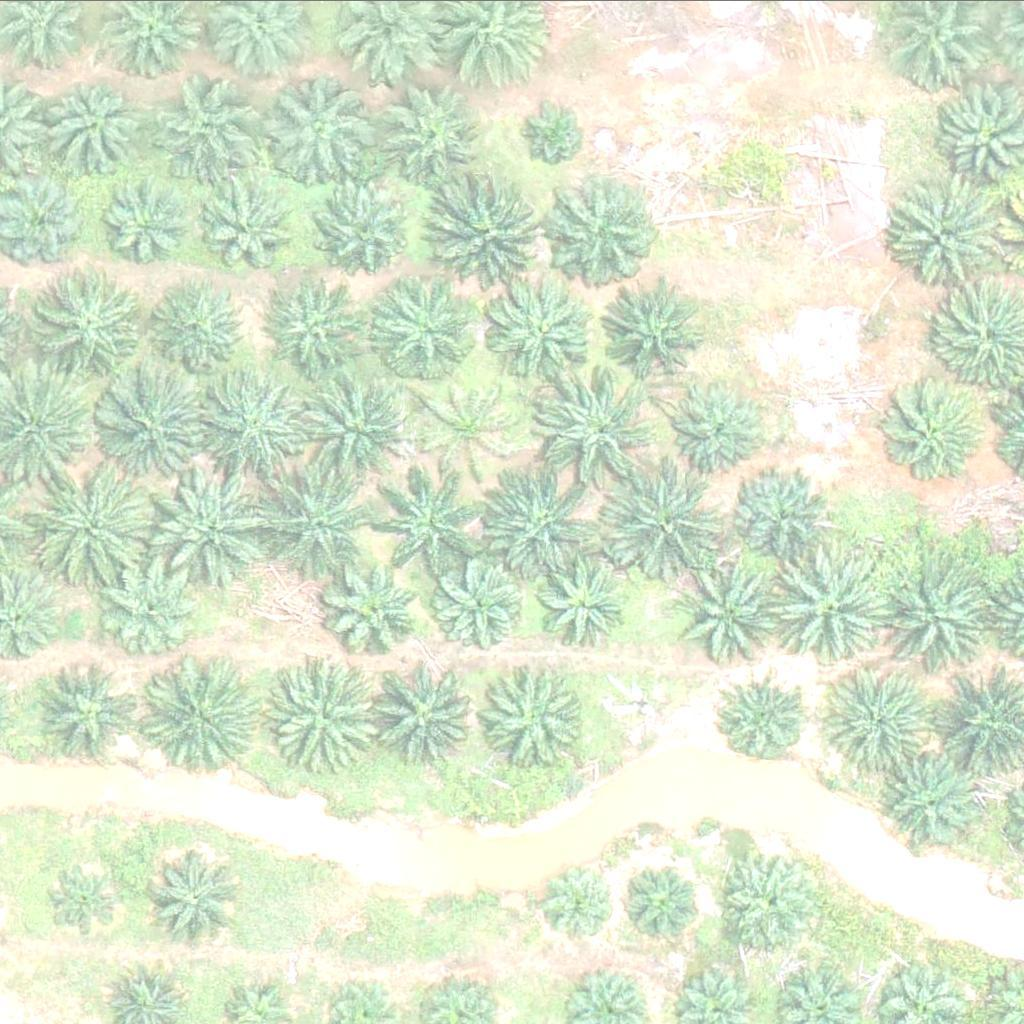Kelapa_Sawit: (609, 464, 723, 577), (886, 561, 1000, 674), (822, 663, 936, 776), (140, 657, 254, 770), (265, 76, 378, 189), (434, 177, 547, 290), (483, 463, 596, 576), (157, 473, 270, 586), (264, 661, 377, 774), (38, 465, 151, 578), (484, 270, 598, 382), (195, 369, 309, 481), (308, 368, 422, 480), (873, 375, 987, 487), (373, 655, 487, 767), (92, 361, 206, 473), (892, 179, 1005, 291), (148, 70, 261, 182), (550, 176, 663, 288), (539, 372, 652, 484), (370, 467, 483, 579), (255, 463, 368, 575), (663, 551, 776, 663), (777, 547, 890, 659), (43, 267, 156, 379), (384, 80, 485, 180), (316, 183, 417, 283), (412, 374, 513, 474), (730, 467, 831, 567), (430, 557, 531, 657), (526, 553, 627, 653), (482, 664, 583, 764), (146, 849, 247, 949), (715, 851, 816, 951), (37, 662, 138, 762), (883, 751, 984, 851), (603, 281, 703, 381), (274, 277, 374, 377), (375, 284, 475, 384), (676, 378, 776, 478), (323, 560, 423, 660), (46, 74, 146, 174), (100, 557, 200, 657), (40, 852, 129, 940), (203, 184, 291, 272), (157, 287, 245, 375), (100, 181, 188, 269), (716, 676, 804, 763), (618, 857, 706, 944), (545, 866, 621, 941), (513, 95, 588, 170)
